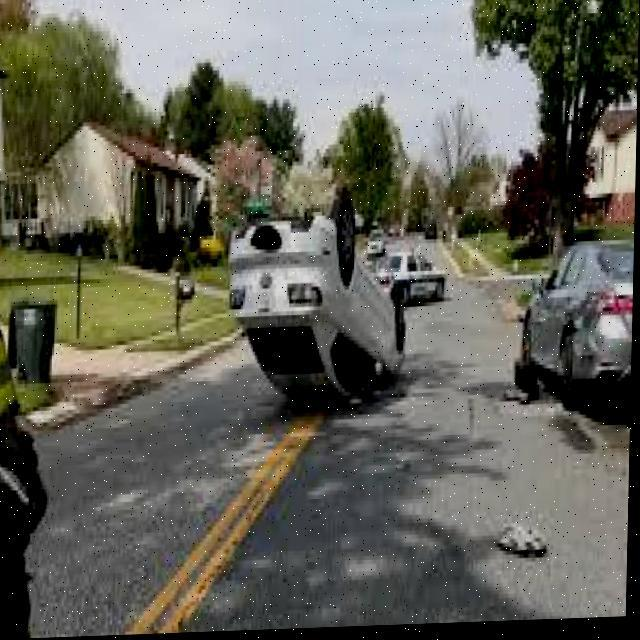single accident: (188, 170, 463, 428)
